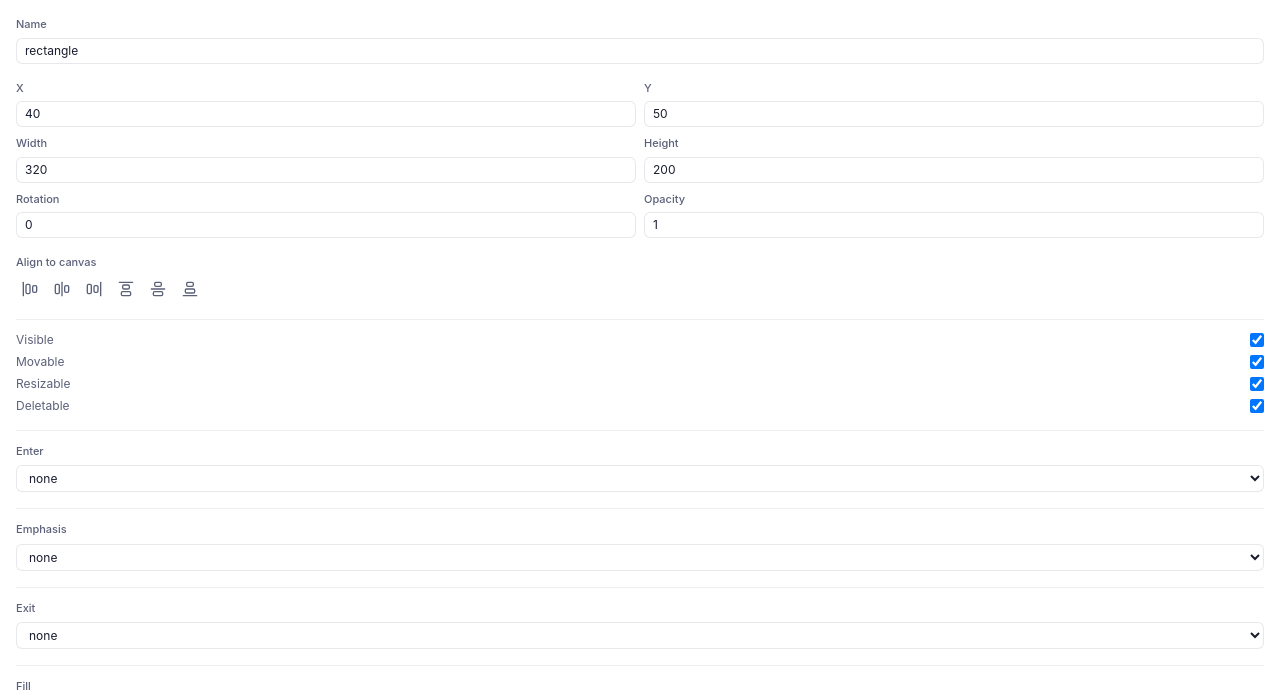
Designer2 PropertiesPanel — live/commit fields (M5) › Escape mid-edit reverts the displayed value, previews the revert, and never commits
The image size is (1280, 699).
Step 1. Replace the text in the number field labelled "Width" with "999" → (326, 170), box [16, 156, 636, 182]
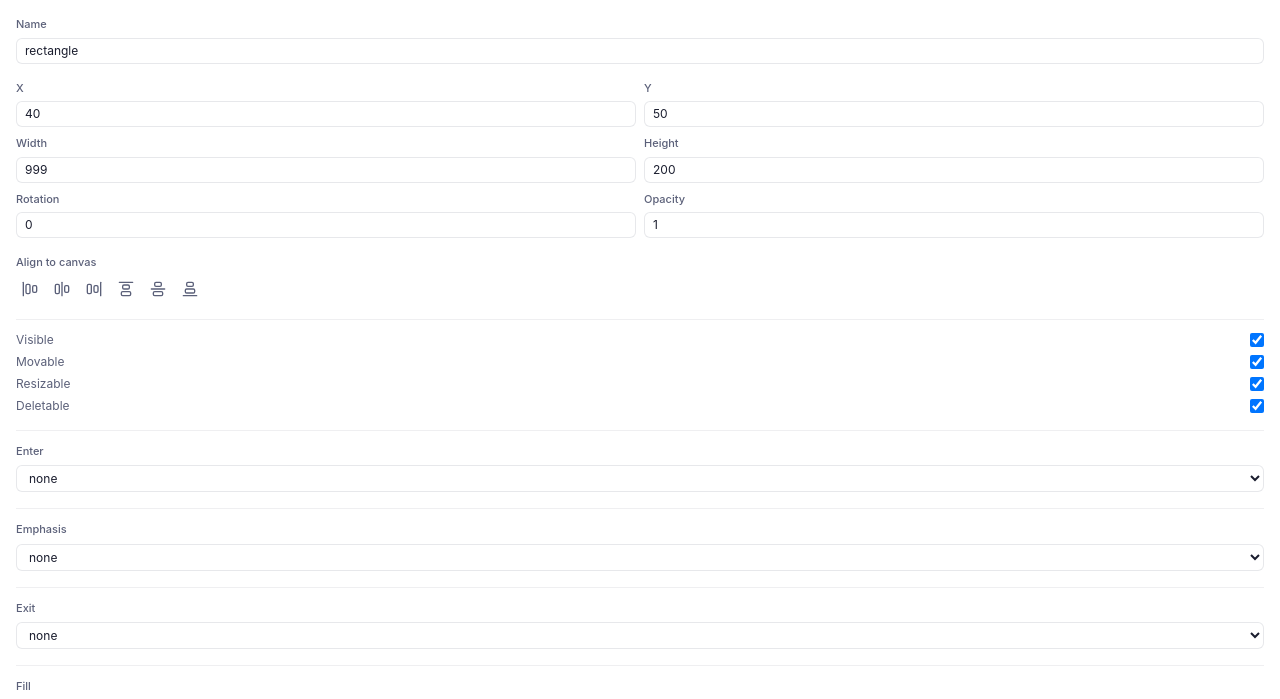
Step 2. Press Escape in the number field labelled "Width", box [16, 156, 636, 182]
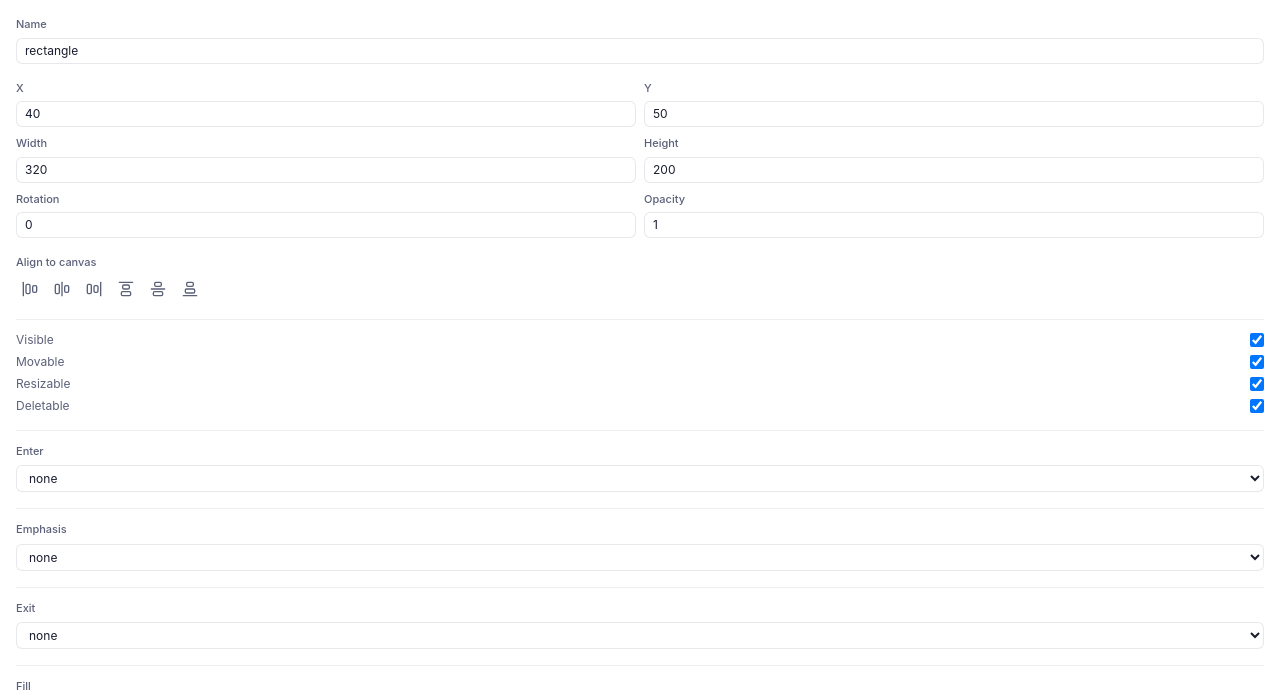
Check: the number field labelled "Width" holds "320", box [16, 156, 636, 182]
